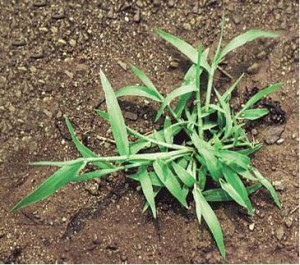crabgrass: (99, 43, 279, 226)
